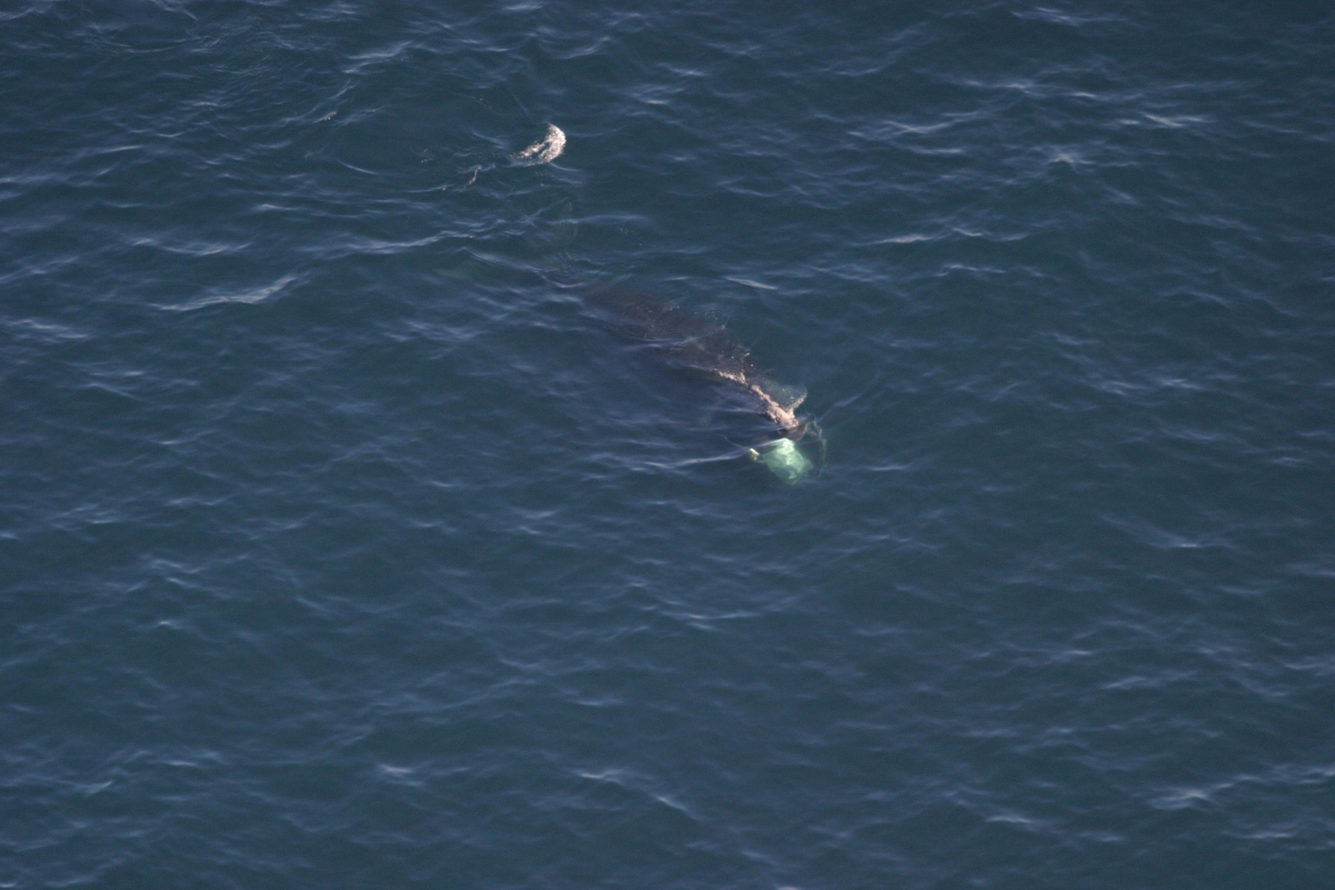whale: (427, 188, 837, 498)
